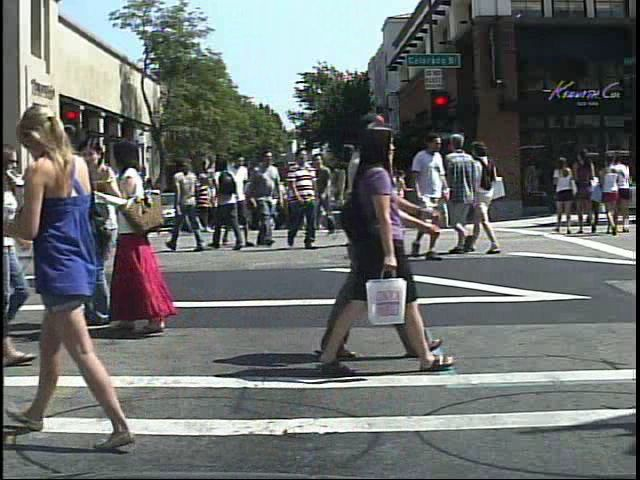person: (34, 85, 143, 453), (308, 117, 427, 381), (109, 133, 196, 343), (368, 106, 424, 368), (79, 130, 123, 332), (463, 134, 510, 266), (336, 138, 378, 252), (209, 151, 249, 257), (247, 147, 285, 256), (285, 141, 322, 252), (372, 145, 410, 249), (169, 151, 206, 256), (218, 150, 255, 253), (446, 132, 476, 254), (410, 133, 452, 220), (553, 152, 581, 237), (192, 170, 213, 239), (66, 182, 86, 232)
